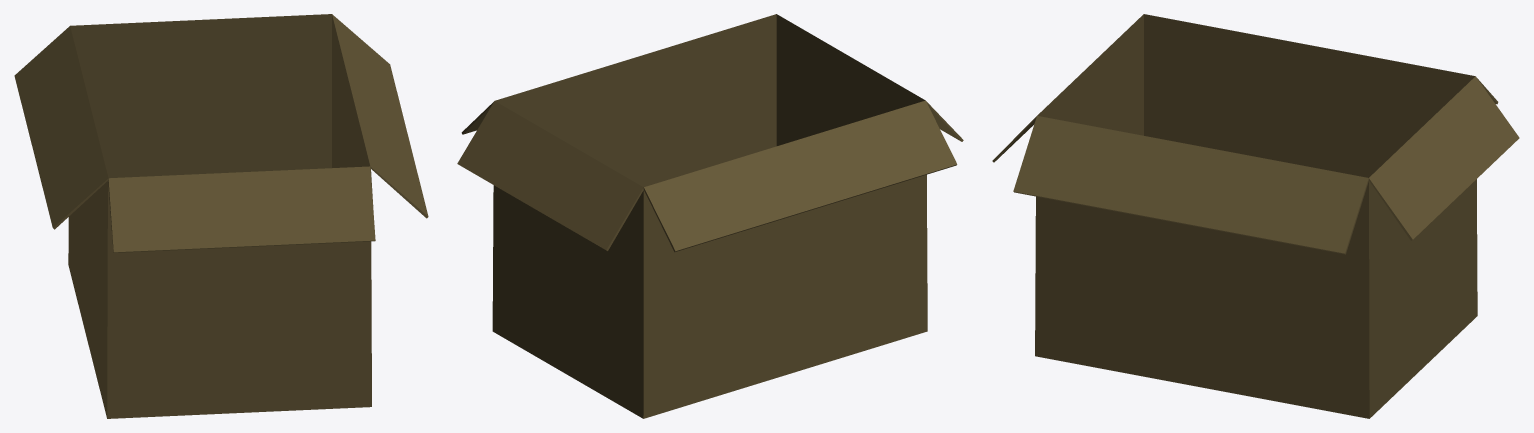
The model's file is trash_box.fbx.
3 views of the same model, side by side, from view 1: azimuth 30°, elevation 25°; view 2: azimuth 150°, elevation 25°; view 3: azimuth 270°, elevation 25° (orthographic). The views are drawn at different scales.
Parts seen in each view (by area): view 1: Trash Box; view 2: Trash Box; view 3: Trash Box.
Boxes of the visible parts, left/top/right/bottom form: Trash Box: left=14, top=14, right=428, bottom=418; Trash Box: left=457, top=14, right=963, bottom=418; Trash Box: left=992, top=14, right=1519, bottom=418.
Size of the model in its own units: 374 by 201 by 400.
